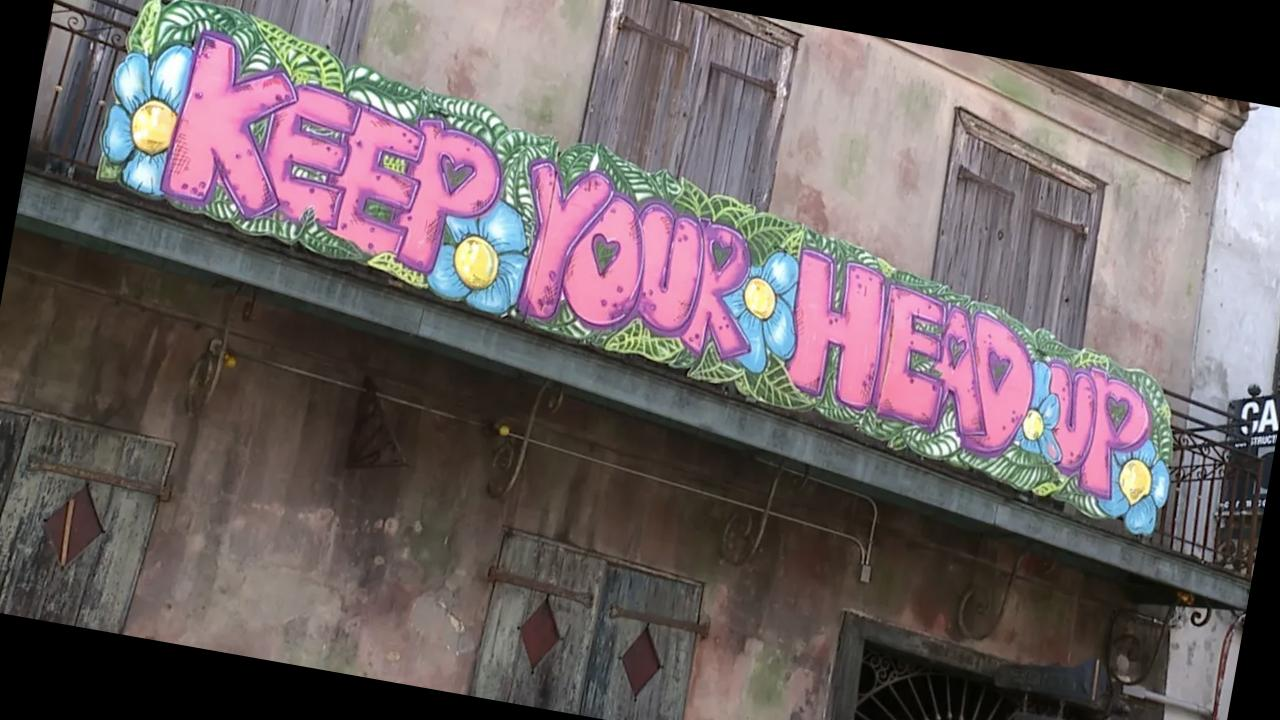graffiti: (96, 0, 1171, 535)
